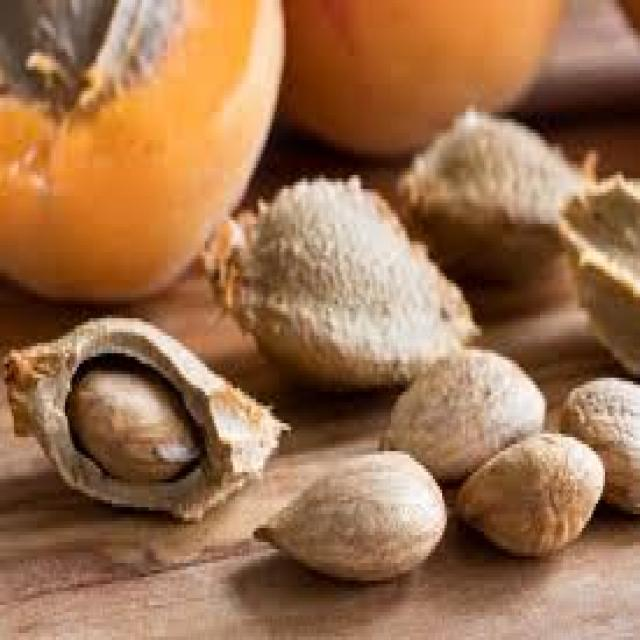cekirdek: (208, 172, 482, 392)
